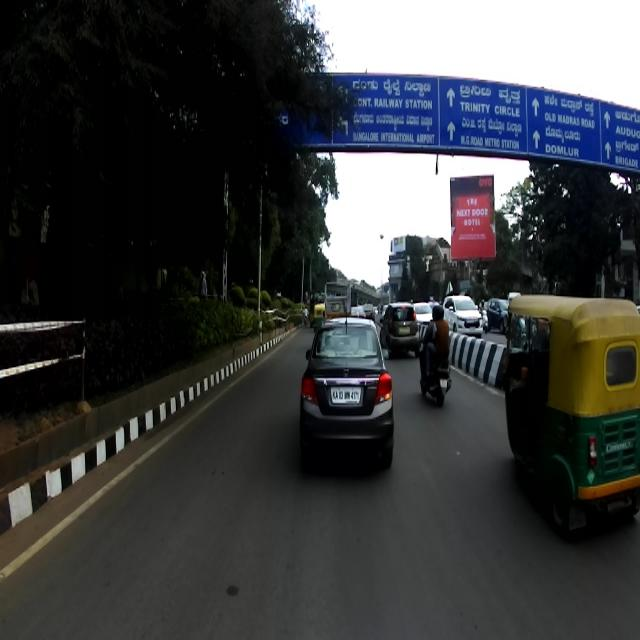Car_Honda: (298, 310, 394, 470)
Car_Maruti-Suzuki: (379, 301, 417, 361)
Car_Toyota: (441, 290, 482, 341)
autorickshaw: (502, 294, 638, 540)
scooter: (416, 335, 452, 407)
